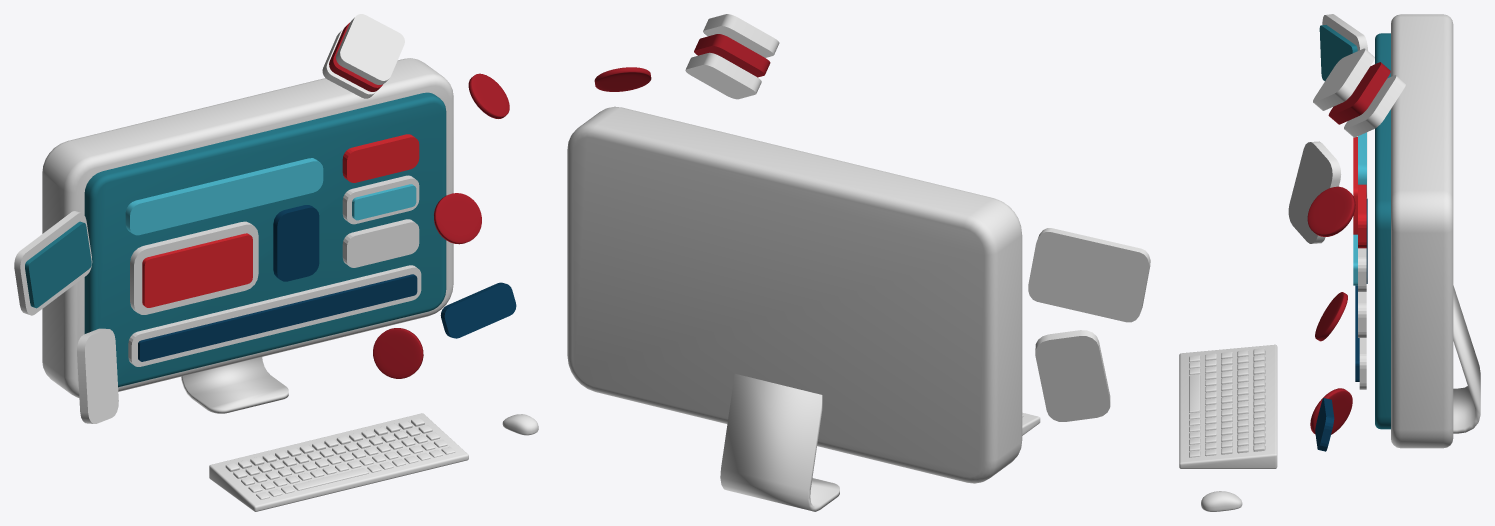
The model's file is Mac1 - showcase export 1.glb.
The picture shows the model from 3 angles, left to right: view 1: azimuth 30°, elevation 25°; view 2: azimuth 150°, elevation 25°; view 3: azimuth 270°, elevation 25°; orthographic projection. The views are drawn at different scales.
Parts seen in each view (by area): view 1: Computerscherm, Computer, Plane.003, Plane.001, Toetsenbord, Plane, Plane.007, Standaard, Plane.009, Drie ding.002, Plane.002, Plane.006 (+9 smaller); view 2: Computer, Standaard, Plane.007, Plane.009, Drie ding, Drie ding.002, Drie ding.001, Cylinder.002; view 3: Computer, Toetsenbord, Computerscherm, Plane.009, Standaard, Drie ding.002, Cylinder.002, Plane.007, Drie ding.001, Drie ding, Cylinder.001, Cylinder (+9 smaller).
Boxes of the visible parts, x1,y1,x2,y2 form: Computerscherm: [84, 92, 446, 387]; Computer: [42, 58, 453, 397]; Plane.003: [128, 265, 421, 366]; Plane.001: [130, 221, 258, 314]; Toetsenbord: [209, 413, 468, 511]; Plane: [125, 158, 323, 235]; Plane.007: [14, 211, 92, 315]; Standaard: [181, 357, 288, 413]; Plane.009: [77, 328, 118, 423]; Drie ding.002: [336, 14, 404, 84]; Plane.002: [273, 205, 319, 281]; Plane.006: [342, 219, 419, 267]; Computer: [567, 106, 1022, 483]; Standaard: [720, 373, 839, 511]; Plane.007: [1028, 228, 1150, 322]; Plane.009: [1035, 330, 1110, 421]; Drie ding: [685, 52, 761, 99]; Drie ding.002: [703, 14, 779, 57]; Drie ding.001: [694, 34, 770, 77]; Cylinder.002: [594, 67, 651, 91]; Computer: [1391, 14, 1453, 448]; Toetsenbord: [1179, 344, 1277, 468]; Computerscherm: [1375, 33, 1390, 429]; Plane.009: [1288, 141, 1341, 243]; Standaard: [1453, 285, 1480, 433]; Drie ding.002: [1313, 48, 1374, 110]; Cylinder.002: [1307, 186, 1355, 236]; Plane.007: [1319, 14, 1367, 80]; Drie ding.001: [1328, 62, 1390, 124]; Drie ding: [1344, 75, 1405, 137]; Cylinder.001: [1310, 388, 1352, 434]; Cylinder: [1315, 292, 1347, 341].
Size of the model in its own units: 4.31 by 3.22 by 2.14.
